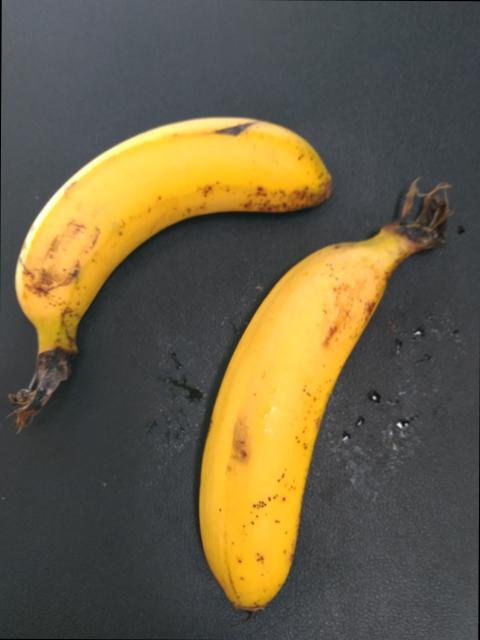ripe: (0, 95, 351, 379), (166, 245, 398, 639)
